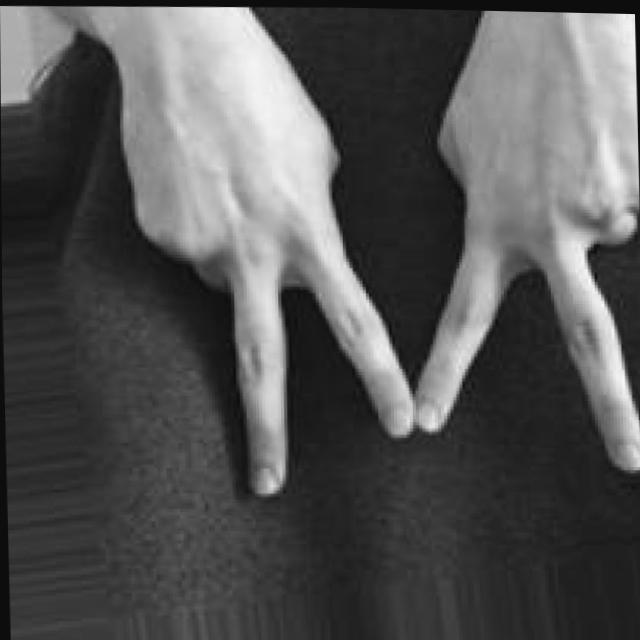M: (110, 2, 640, 506)
